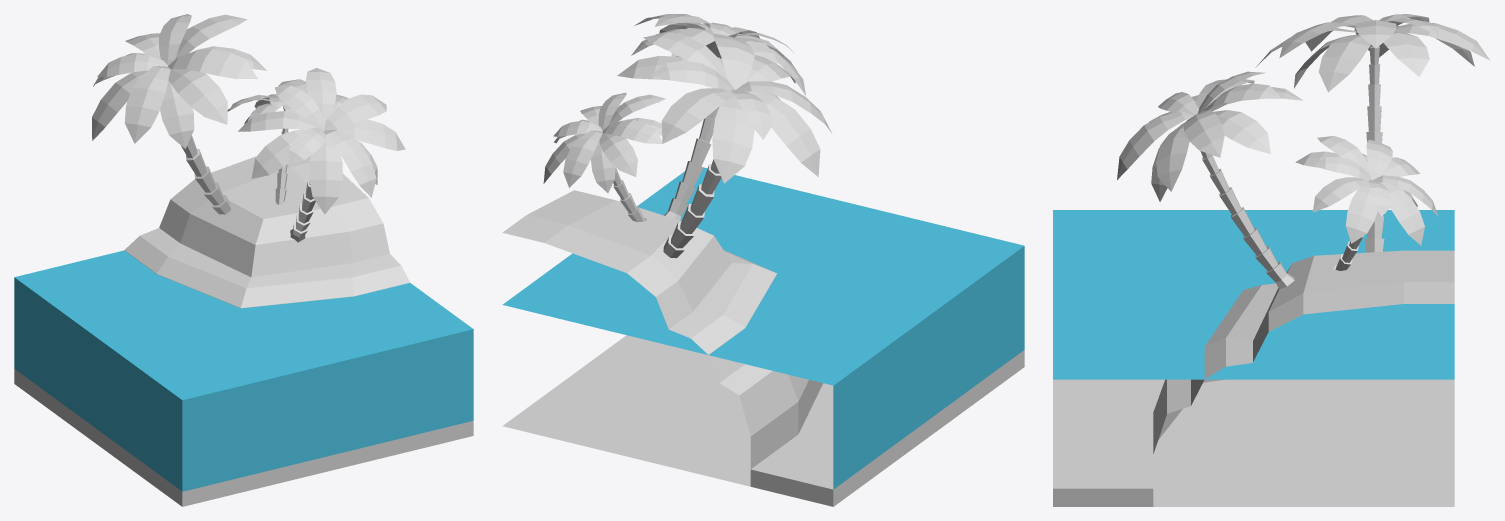
The model's file is Corner1.fbx.
3 views of the same model, side by side, from view 1: azimuth 30°, elevation 25°; view 2: azimuth 150°, elevation 25°; view 3: azimuth 270°, elevation 25° (orthographic). The views are drawn at different scales.
Visible parts, largest first — view 1: Corner1; view 2: Corner1; view 3: Corner1.
Part boxes in pixels (x1,y1,x2,y2): Corner1: (14, 14, 473, 506); Corner1: (502, 14, 1024, 506); Corner1: (1053, 14, 1490, 506).
Bounding box in the file's own units: 200 × 226 × 218.
